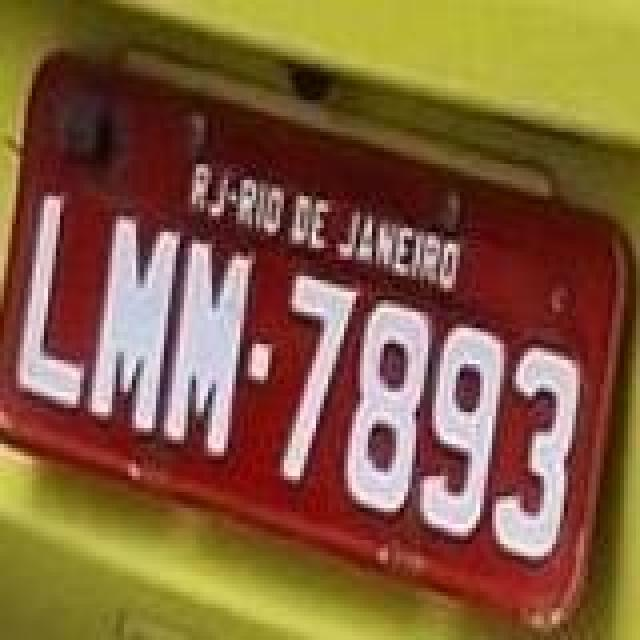3: (490, 348, 582, 564)
7: (278, 268, 362, 484)
8: (344, 300, 432, 516)
9: (420, 320, 508, 544)
L: (16, 192, 88, 416)
M: (88, 216, 184, 440), (162, 240, 254, 464)
